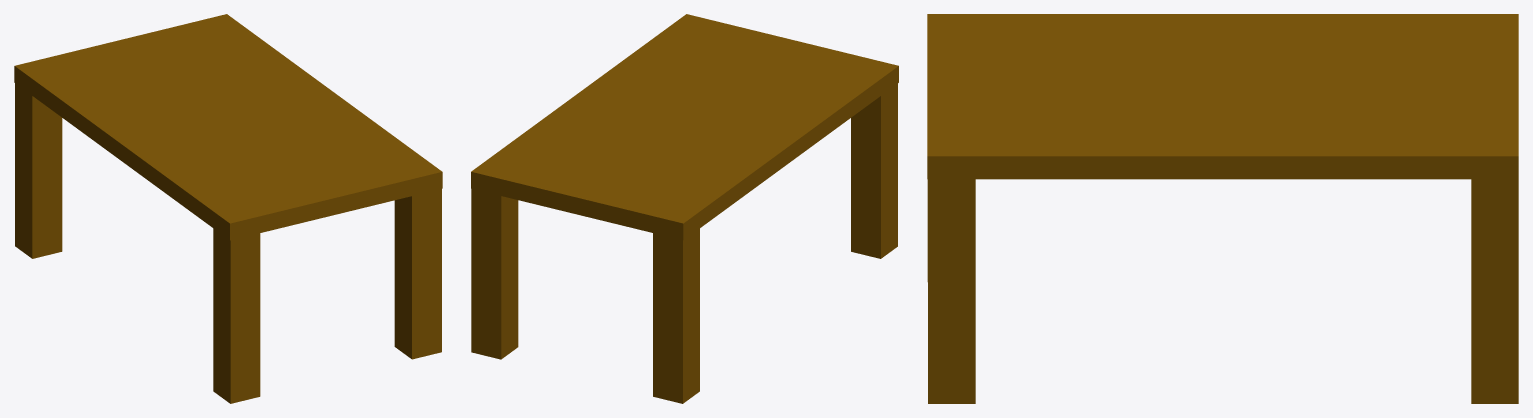
The model's file is Table.fbx.
3 views of the same model, side by side, from view 1: azimuth 30°, elevation 25°; view 2: azimuth 150°, elevation 25°; view 3: azimuth 270°, elevation 25° (orthographic). The views are drawn at different scales.
Parts seen in each view (by area): view 1: Table, Leg3, Leg, Leg2; view 2: Table, Leg1, Leg2, Leg3; view 3: Table, Leg1, Leg.
Part boxes in pixels (x1,y1,x2,y2): Table: (14, 14, 442, 240); Leg3: (213, 228, 260, 403); Leg: (394, 189, 441, 359); Leg2: (15, 83, 62, 258); Table: (471, 14, 898, 240); Leg1: (471, 189, 518, 359); Leg2: (653, 228, 699, 403); Leg3: (851, 83, 897, 258); Table: (927, 14, 1518, 179); Leg1: (1471, 179, 1518, 403); Leg: (928, 179, 975, 403).
Bounding box in the file's own units: 2.33 × 1.89 × 4.09.
